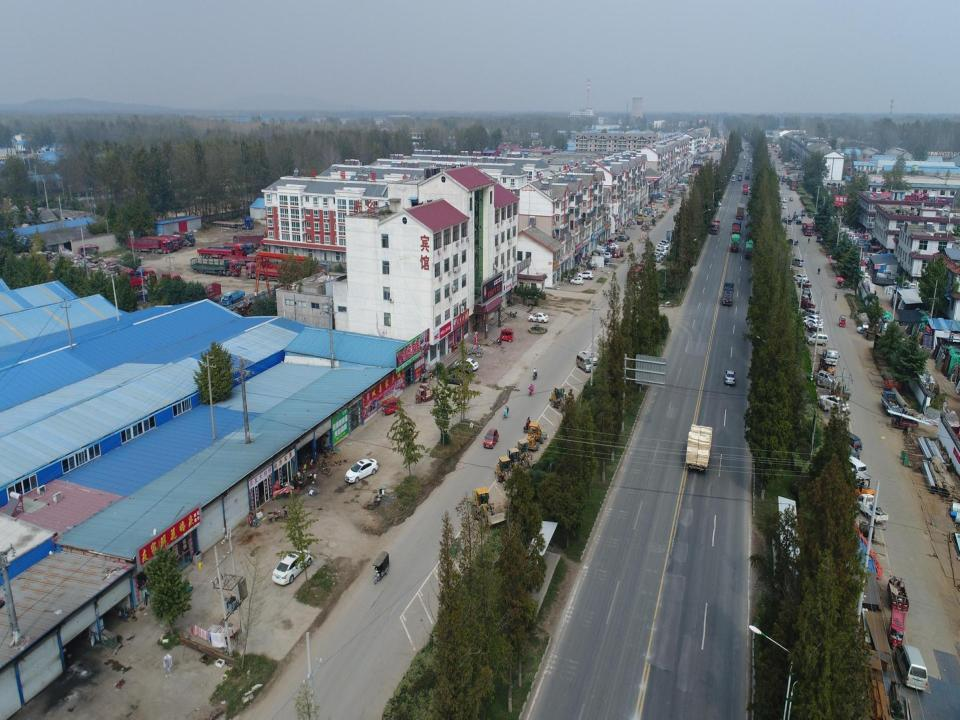bus: (731, 175, 736, 182), (749, 158, 753, 163)
car: (271, 546, 313, 585), (896, 644, 930, 691), (838, 452, 869, 488), (344, 453, 378, 483), (836, 428, 863, 455), (836, 439, 860, 465), (819, 394, 849, 413), (815, 370, 838, 391), (482, 428, 500, 450), (453, 358, 479, 373), (444, 372, 468, 388), (448, 363, 472, 379), (579, 349, 599, 365), (527, 311, 549, 325), (803, 315, 824, 328), (802, 319, 824, 331), (722, 369, 736, 385), (577, 270, 594, 280), (570, 276, 584, 286), (598, 256, 612, 266), (796, 277, 810, 287), (792, 274, 808, 282), (601, 251, 613, 261), (654, 243, 666, 253), (655, 247, 666, 257), (614, 234, 627, 242), (658, 242, 668, 252), (607, 243, 619, 251), (786, 238, 797, 246), (802, 287, 810, 297), (618, 234, 630, 240), (713, 200, 721, 206), (658, 193, 666, 198), (780, 204, 787, 209), (789, 196, 794, 202), (780, 198, 787, 202), (747, 185, 751, 190), (739, 168, 743, 173), (746, 166, 750, 170), (778, 168, 782, 172), (743, 156, 746, 160), (744, 146, 747, 148), (745, 148, 748, 150), (747, 150, 749, 152)
truck: (134, 275, 186, 305), (686, 421, 712, 475), (188, 254, 243, 278), (246, 262, 293, 286), (256, 258, 303, 282), (855, 493, 889, 524), (126, 235, 172, 256), (134, 271, 173, 295), (204, 241, 255, 259), (223, 253, 273, 271), (198, 243, 248, 261), (102, 266, 137, 290), (180, 282, 222, 302), (232, 231, 274, 251), (142, 233, 179, 255), (223, 239, 268, 257), (147, 230, 183, 252), (122, 269, 158, 291), (114, 265, 146, 288), (880, 390, 906, 416), (210, 214, 254, 229), (625, 263, 646, 289), (161, 230, 195, 246), (220, 288, 245, 306), (821, 346, 840, 366), (744, 231, 756, 260), (721, 281, 735, 305), (729, 231, 741, 251), (734, 200, 745, 221), (708, 218, 721, 234), (801, 222, 813, 237), (730, 219, 742, 233), (665, 228, 676, 243), (787, 178, 797, 190), (650, 193, 664, 200), (742, 182, 748, 196), (796, 171, 804, 180), (782, 174, 789, 184), (744, 170, 750, 179), (737, 172, 742, 182), (786, 170, 791, 178), (801, 209, 806, 216), (751, 149, 754, 154)
van: (805, 332, 829, 348), (575, 353, 594, 372), (802, 308, 820, 320), (790, 257, 804, 267), (653, 250, 663, 260), (661, 239, 671, 248), (649, 254, 659, 262), (655, 198, 664, 204), (643, 207, 652, 212), (784, 162, 790, 166)
